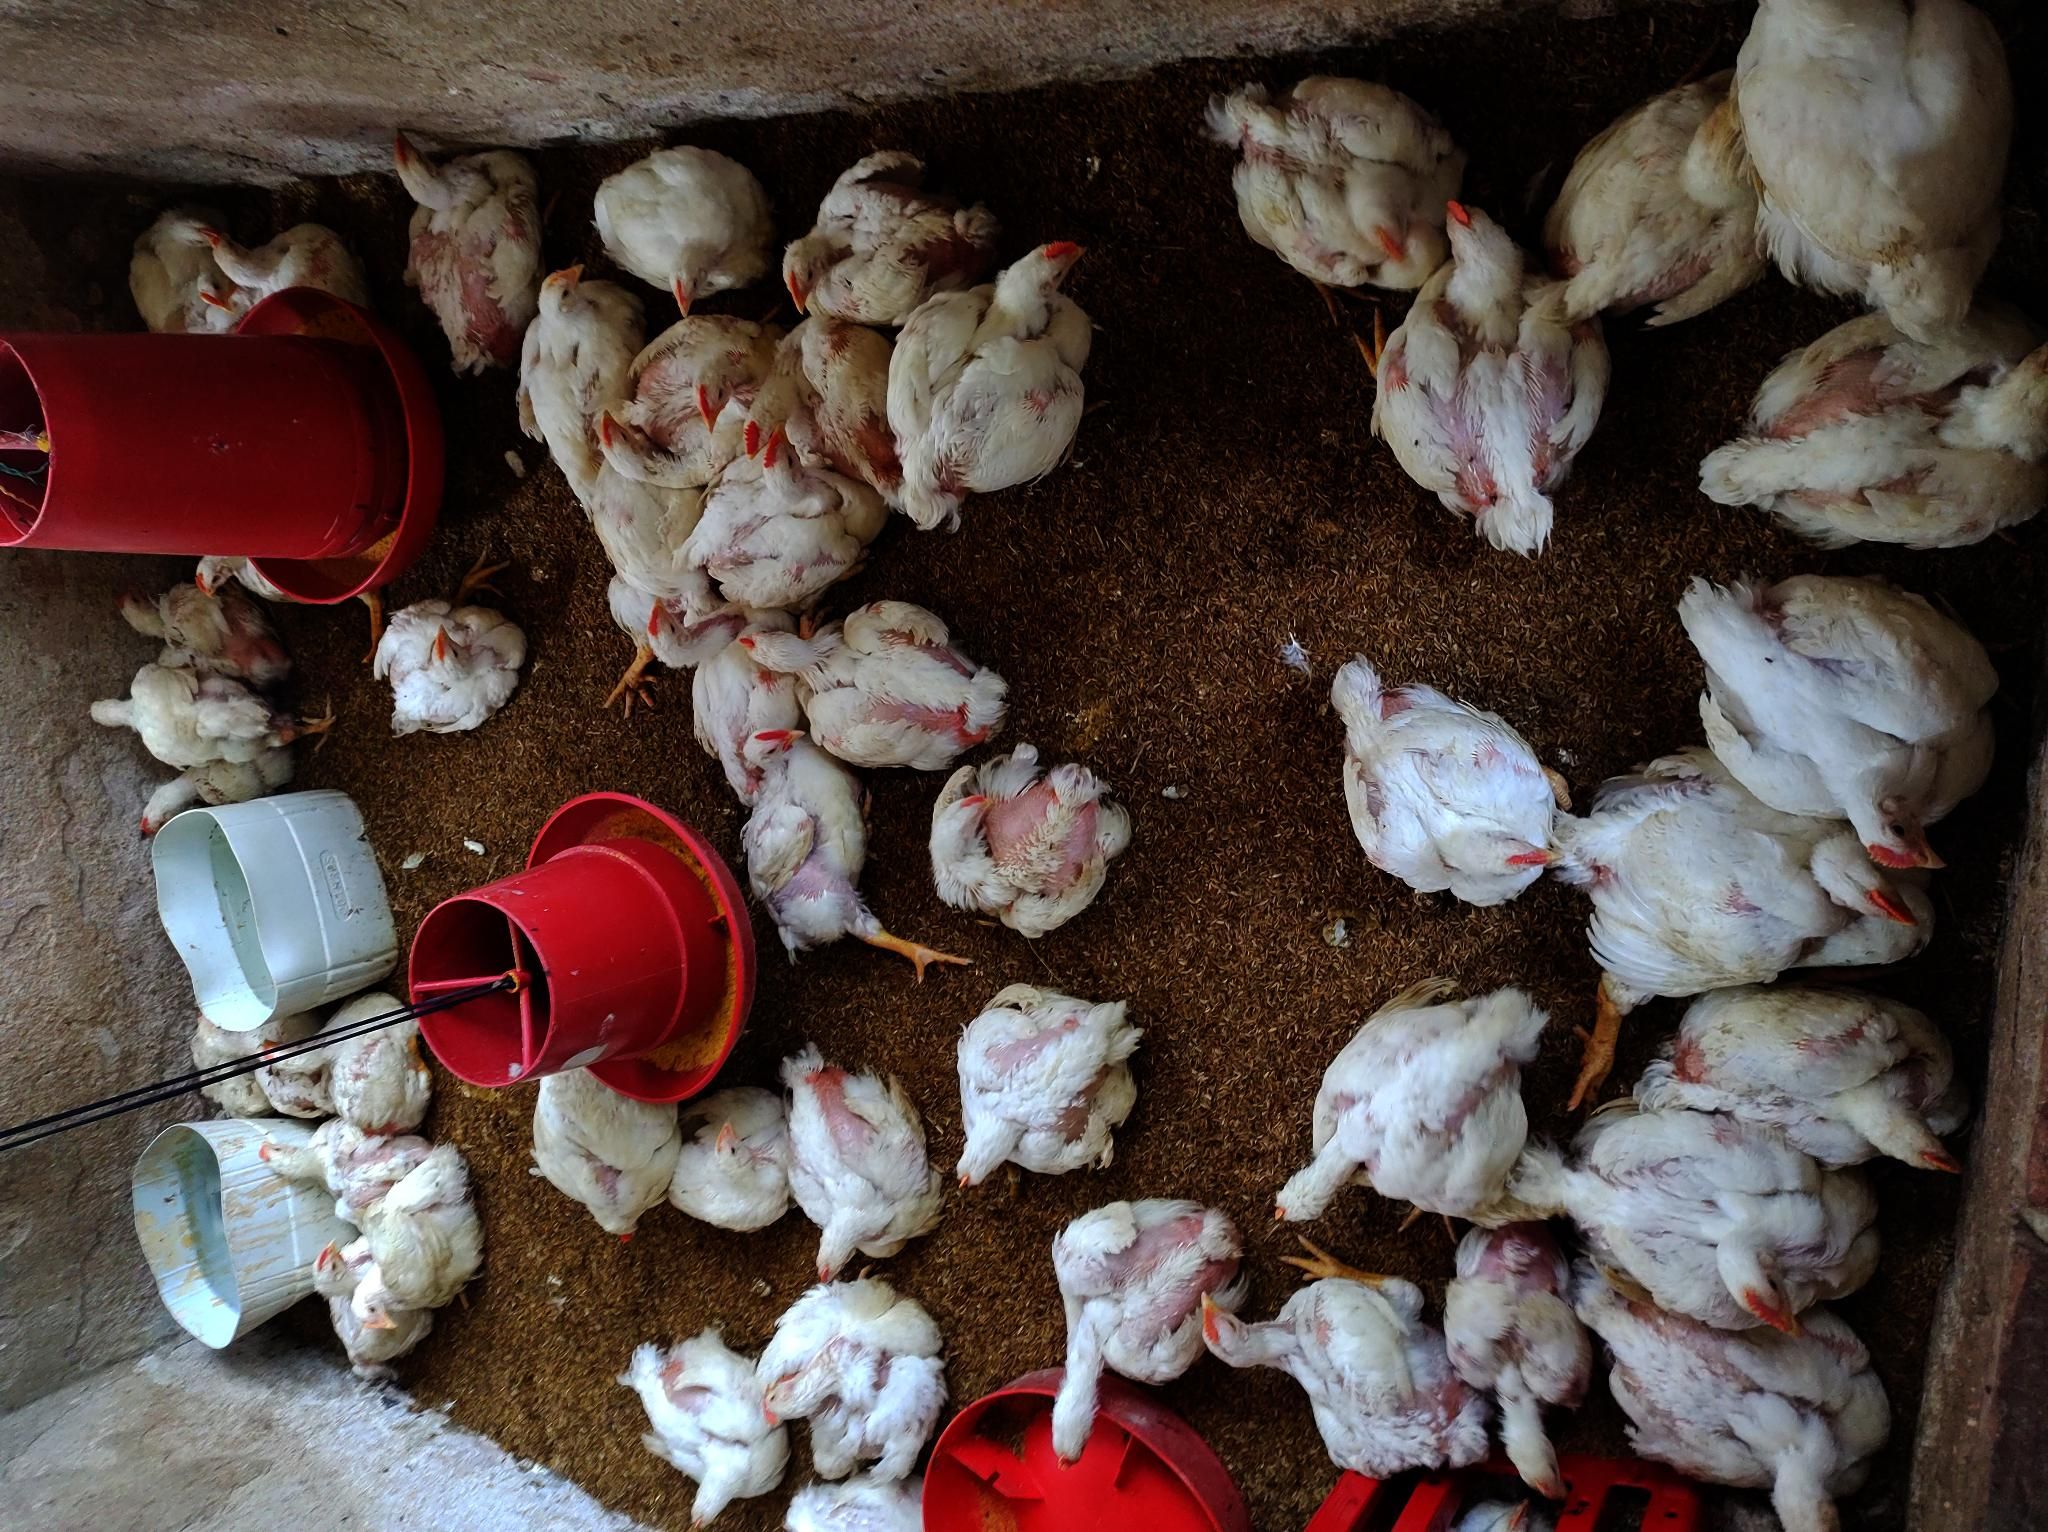Pollos: (1652, 566, 2048, 877), (1675, 3, 2024, 311), (1569, 727, 1951, 996), (1363, 183, 1614, 547), (1258, 969, 1580, 1241), (1668, 311, 2046, 541), (1564, 1091, 1889, 1349), (1310, 637, 1581, 938), (1186, 31, 1477, 307), (1170, 1252, 1520, 1476), (1606, 1271, 1902, 1532), (1660, 954, 1993, 1184), (886, 230, 1113, 529), (1018, 1188, 1252, 1464), (1538, 56, 1757, 348), (735, 715, 964, 982), (1446, 1199, 1607, 1505), (772, 1032, 960, 1291), (735, 599, 1004, 776), (940, 985, 1152, 1202), (922, 732, 1136, 946), (590, 397, 735, 710), (373, 114, 544, 367), (743, 1278, 952, 1484), (635, 584, 840, 789), (761, 150, 991, 330), (611, 1344, 793, 1532), (701, 430, 878, 612), (513, 261, 642, 500), (590, 138, 759, 315), (528, 1067, 682, 1246), (737, 314, 909, 468), (69, 666, 343, 760), (254, 990, 434, 1128), (349, 1147, 481, 1334), (360, 595, 533, 735), (306, 1225, 438, 1387), (663, 1086, 809, 1231), (127, 739, 286, 851), (103, 203, 246, 327), (105, 586, 291, 677), (248, 1126, 426, 1220), (619, 328, 767, 439), (193, 212, 359, 304), (175, 549, 283, 608)
